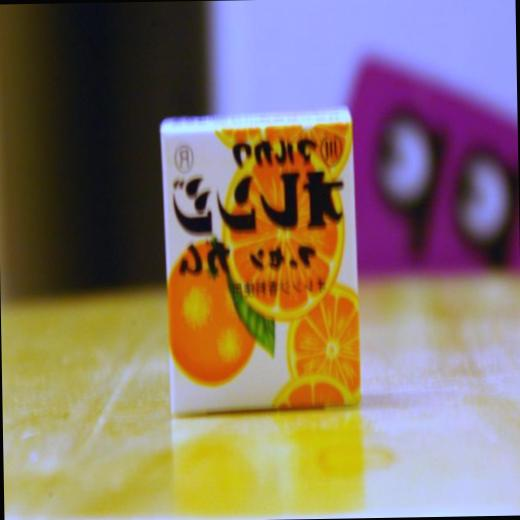Grape: (222, 140, 347, 316), (166, 240, 258, 380), (280, 295, 354, 401), (228, 124, 354, 174)
